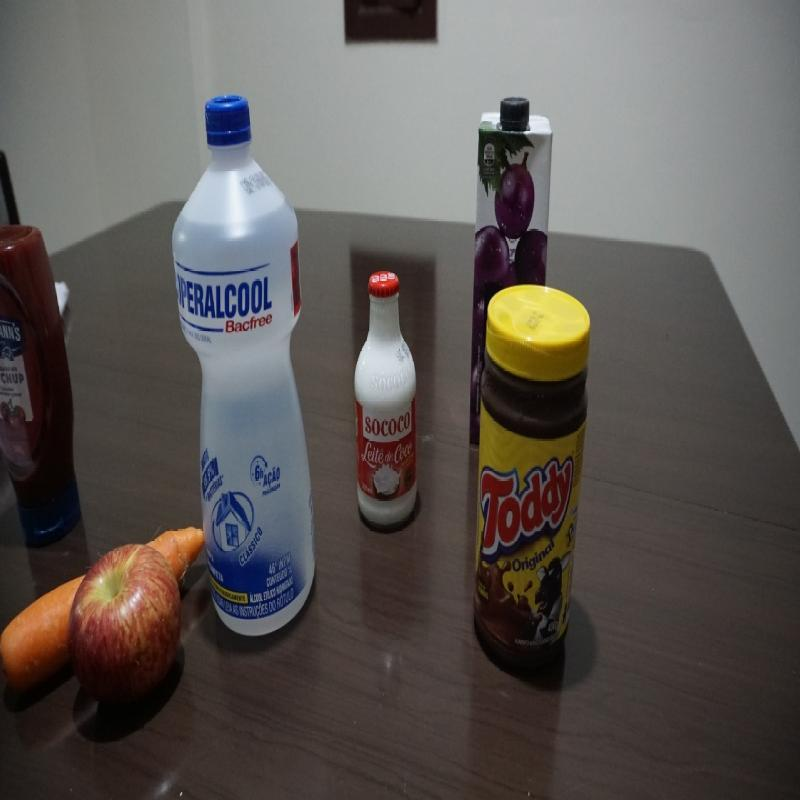Alcohol Bottle: (171, 95, 318, 642)
Carrot: (2, 579, 69, 701)
Chocolate Powder: (473, 284, 593, 674)
Coconut Milk: (352, 271, 420, 536)
Ketchup: (0, 212, 85, 548)
